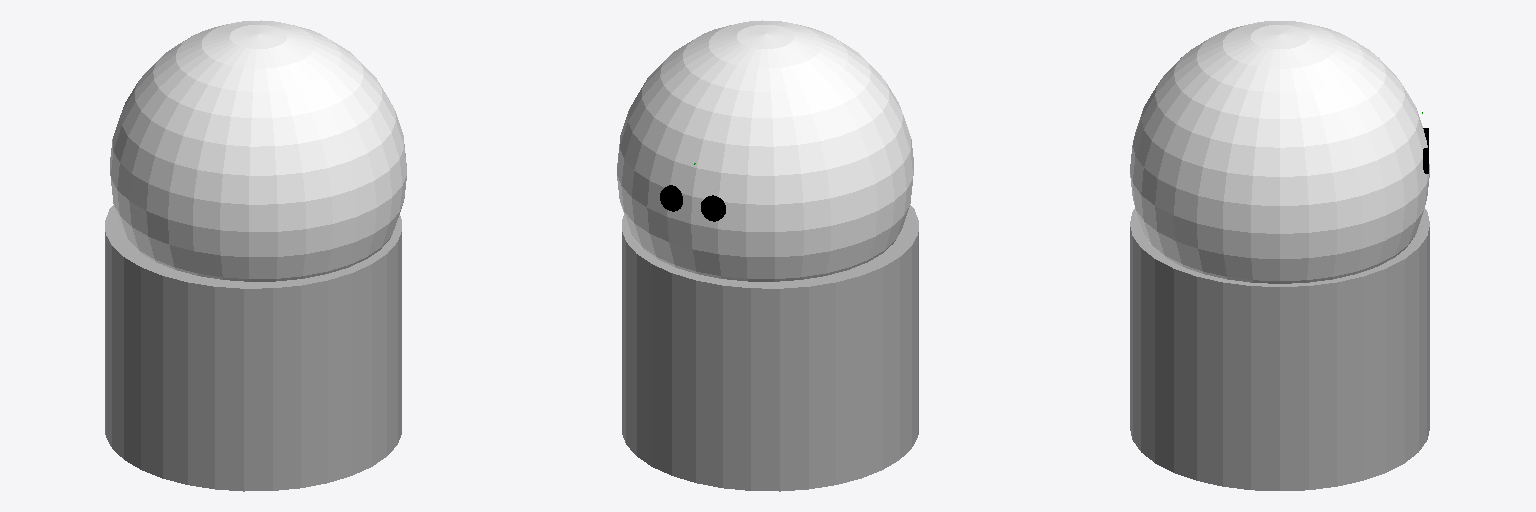
URDF robot description (mira):
<robot name="mira">

    <material name="blue">
        <color rgba="0 0 0.8 1"/>
    </material>
    <material name="red">
        <color rgba="0.8 0 0 1"/>
    </material>
    <material name="green">
        <color rgba="0 0.8 0 1"/>
    </material>
    <material name="grey">
        <color rgba="0.75 0.75 0.75 1"/>
    </material>
    <material name="white">
        <color rgba="1.0 1.0 1.0 1"/>
    </material>
    <material name="black">
        <color rgba="0 0 0 1"/>
    </material>

	<!-- * * * Link Definitions * * * -->
    <link name="base_link">

        <visual>
            <origin rpy="0.0 0 0" xyz="0 0 0"/>
            <geometry>
                <cylinder radius="0.06" length="0.09"/>
            </geometry>
            <material name="grey"/>
        </visual>
	</link>



    <link name="roll_M1_link">

        <visual>
            <origin rpy="0 0 0" xyz="0 0 0"/>
            <geometry>
                <cylinder length="0.005" radius="0.01"/>
            </geometry>
            <material name="red"/>
        </visual>
    </link>

    <joint name="roll_joint" type="revolute">
    	<parent link="base_link"/>
    	<child link="roll_M1_link"/>
        <origin xyz="0.0023 0 -0.0005" rpy="0 0 0"/>
        <limit lower="-0.2" upper="0.2" effort="0.1" velocity="0.005"/>
        <axis xyz="1 0 0"/>
	</joint>



    <link name="pitch_M2_link">

        <visual>
            <origin rpy="0 0 0" xyz="0 0 0"/>
            <geometry>
                <cylinder length="0.005" radius="0.01"/>
            </geometry>
            <material name="green"/>
        </visual>
    </link>


    <joint name="pitch_joint" type="revolute">
    	<parent link="roll_M1_link"/>
    	<child link="pitch_M2_link"/>
    	<origin xyz="0 0 0" rpy="0 -1.5708 0"/>
        <limit lower="0" upper="0.44" effort="0.1" velocity="0.005"/>
        <axis xyz="0 1 0"/>
	</joint>


    <link name="yaw_M3_link">

        <visual>
            <origin rpy="0 0 0" xyz="0 0 0"/>
            <geometry>
                <cylinder length="0.005" radius="0.01"/>
            </geometry>
            <material name="blue"/>
        </visual>
    </link>

    <joint name="yaw_joint" type="continuous">
    	<parent link="pitch_M2_link"/>
    	<child link="yaw_M3_link"/>
        <origin xyz="0.01 0 0" rpy="0 1.5708 0"/>
        <limit effort="0.1" velocity="0.01"/>
        <axis xyz="0 0 1"/>
	</joint>


    <link name="head_link">

		<visual>
            <origin rpy="0.0 0 0" xyz="0 0 0"/>
            <geometry>
                <sphere radius="0.06"/>
            </geometry>
            <material name="white"/>
        </visual>
	</link>


    <joint name="base_head_joint" type="fixed">
    	<parent link="yaw_M3_link"/>
    	<child link="head_link"/>
    	<origin xyz="0 0 0.06" rpy="0 0 0"/>
	</joint>

    <link name="left_eye_link">

		<visual>
            <origin rpy="0.0 0 0" xyz="0 0 0"/>
            <geometry>
                <cylinder radius="0.00525" length="0.00525"/>
            </geometry>
            <material name="black"/>
        </visual>
	</link>

    <link name="right_eye_link">

		<visual>
            <origin rpy="0.0 0 0" xyz="0 0 0"/>
            <geometry>
                <cylinder radius="0.00525" length="0.00525"/>
            </geometry>
            <material name="black"/>
        </visual>
	</link>

    <joint name="head_lefteye_joint" type="fixed">
        <parent link="head_link"/>
        <child link="left_eye_link"/>
        <origin xyz="0.0095 0.057 0.0085" rpy="-1.5708 0 0"/>
    </joint>

    <joint name="head_righteye_joint" type="fixed">
        <parent link="head_link"/>
        <child link="right_eye_link"/>
        <origin xyz="-0.0095 0.057 0.0085" rpy="-1.5708 0 0"/>
    </joint>

    <link name="camera_link">
		<visual>
            <origin rpy="0.0 0 0" xyz="0 0 0"/>
            <geometry>
                <box size="0.0005 0.0005 0.0005"/>
            </geometry>
            <material name="green"/>
        </visual>
	</link>


    <joint name="head_camera_joint" type="fixed">
        <parent link="head_link"/>
        <child link="camera_link"/>
        <origin xyz="0 0.057 0.0255" rpy="0 0 0"/>
    </joint>


</robot>

--- What the picture shows (computed from the rendered views, not written in the file) ---
The picture shows the robot from 3 angles, left to right: view 1: azimuth 30°, elevation 25°; view 2: azimuth 150°, elevation 25°; view 3: azimuth 270°, elevation 25°; orthographic projection.
Robot: mira — 8 links, 7 joints (2 revolute, 1 continuous, 4 fixed); root link base_link; default pose: every joint at zero.
Links seen in each view (by area): view 1: base_link, head_link; view 2: base_link, head_link; view 3: head_link, base_link.
Link boxes in pixels (x1=…): base_link: x1=105, y1=205, x2=401, y2=491; head_link: x1=110, y1=20, x2=406, y2=281; base_link: x1=622, y1=205, x2=918, y2=491; head_link: x1=617, y1=20, x2=913, y2=281; head_link: x1=1130, y1=21, x2=1429, y2=283; base_link: x1=1130, y1=209, x2=1429, y2=490.
Bounding box of the posed robot: 0.1223 × 0.12 × 0.1745 m (x, y, z).
Geometry: primitives only (box / cylinder / sphere), no mesh files.
